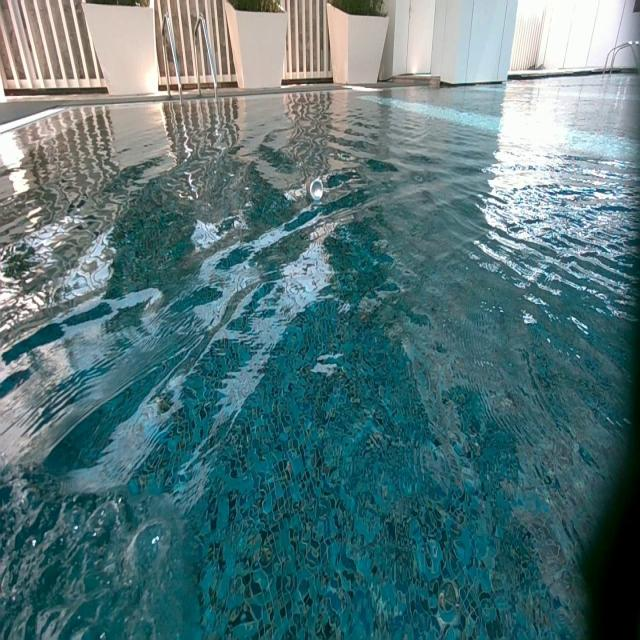Cans: (310, 178, 324, 196)
